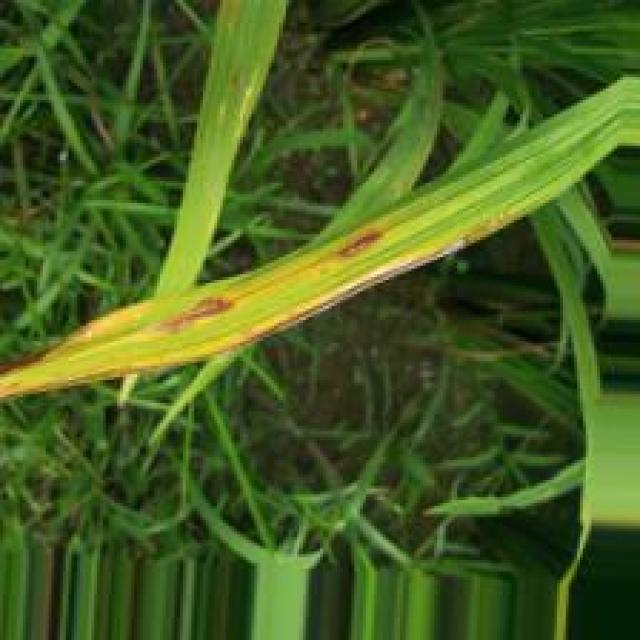Narrow_Brown_Leaf_Spot: (0, 208, 524, 416)
